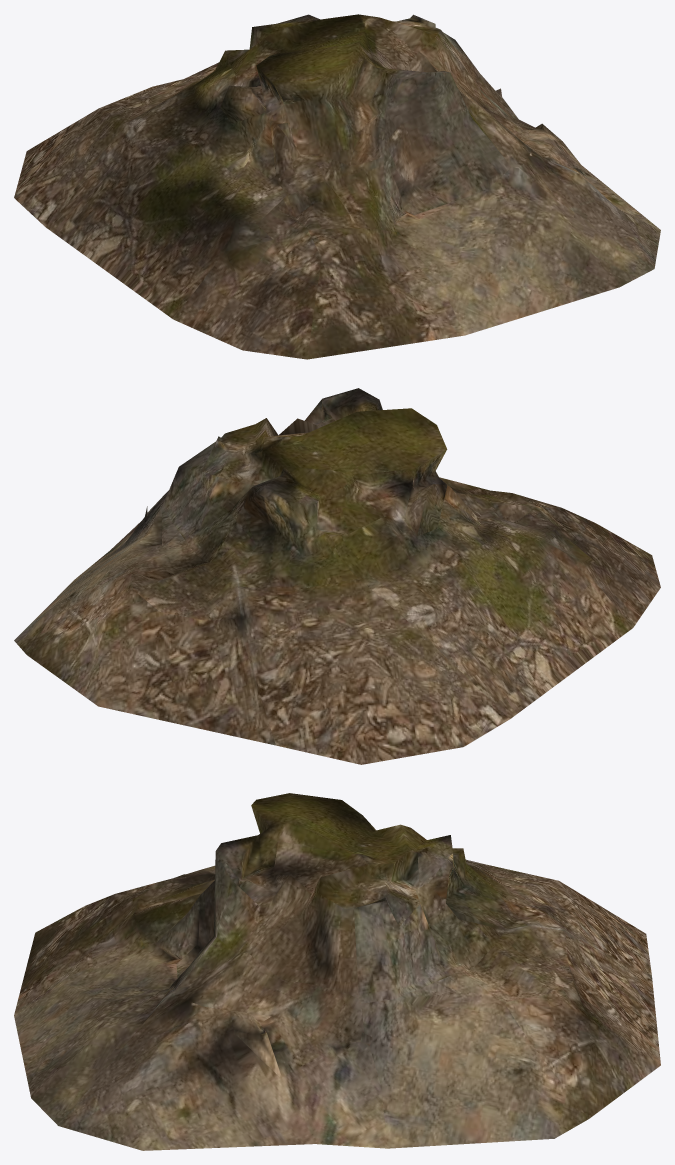
The model's file is tree_stump_01.glb.
3 renders of one model, top to bottom at view 1: azimuth 30°, elevation 25°; view 2: azimuth 150°, elevation 25°; view 3: azimuth 270°, elevation 25°, orthographic. The views are drawn at different scales.
Visible parts, largest first — view 1: tree_stump_01; view 2: tree_stump_01; view 3: tree_stump_01.
Boxes of the visible parts, bbox=[...] form: tree_stump_01: bbox=[14, 14, 660, 359]; tree_stump_01: bbox=[14, 388, 660, 764]; tree_stump_01: bbox=[14, 793, 660, 1150].
Bounding box in the file's own units: 1.42 × 0.5615 × 1.59.
1 material, 1 textured.
